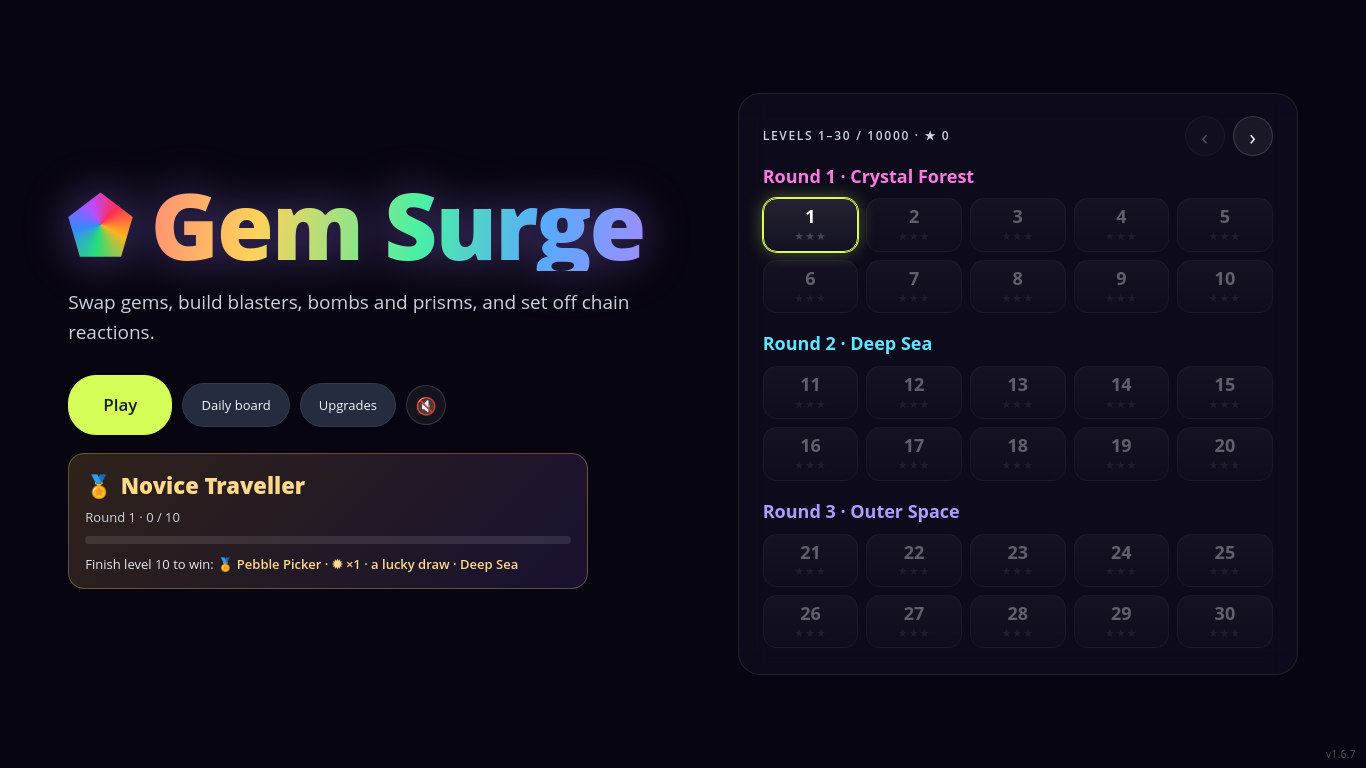
Test: switching language mid-level redraws everything in it and keeps the game going
Click the button "Play" at [120, 405], box [68, 375, 172, 435]
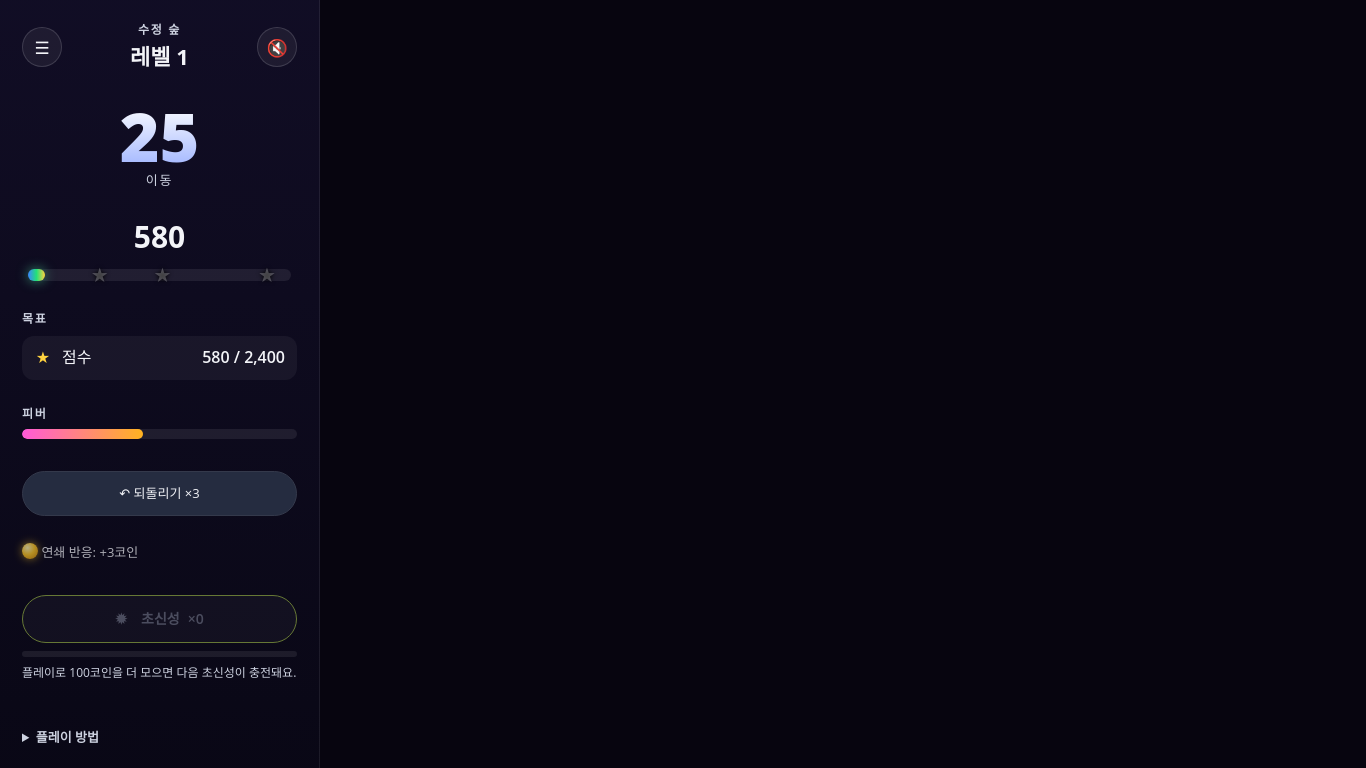
Expected: the text "Movimientos" is shown, [146, 170, 173, 191]
Expected: the heading "레벨 1" is shown, [130, 41, 189, 71]
# And back to the menu, still in Korean.
Click the button named "메뉴" at [42, 47], box [22, 27, 62, 67]
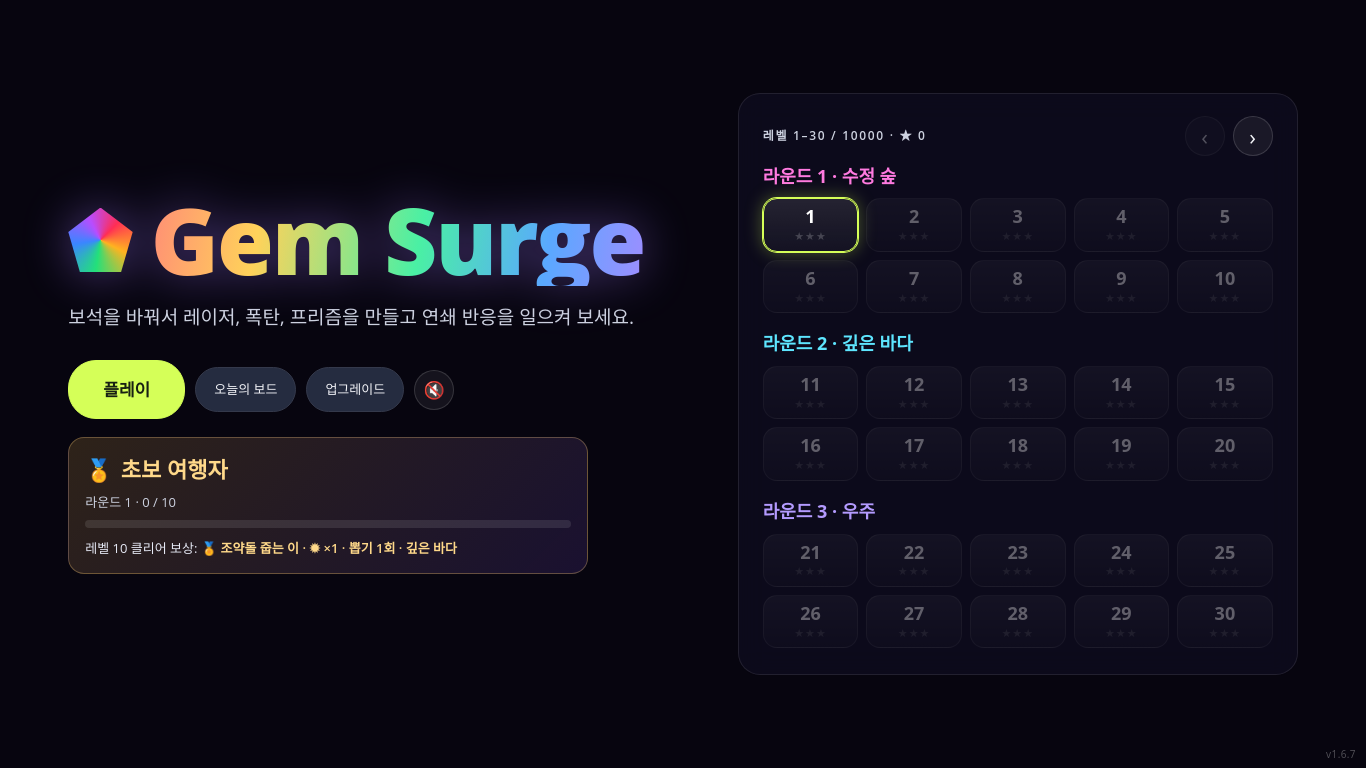
Expected: the button named "레벨 2" is shown, [866, 198, 962, 252]
